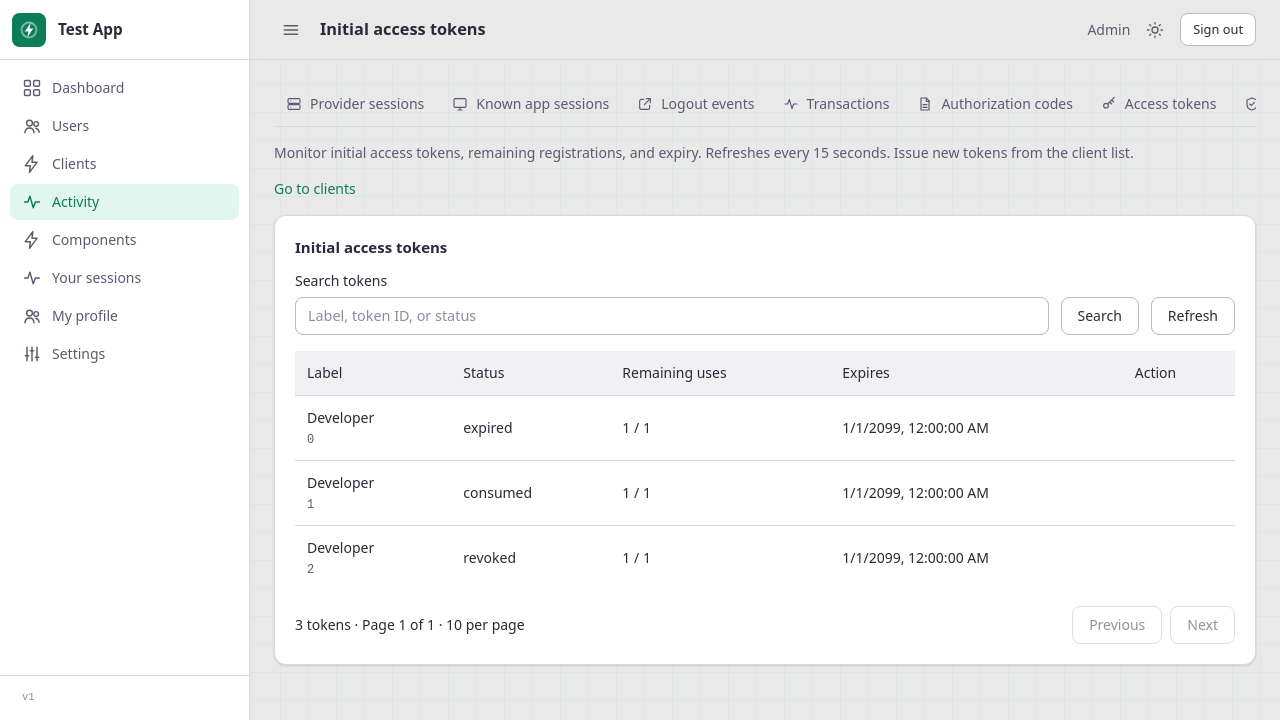
Test case: dynamic registration administration › hides revocation for expired, consumed and revoked tokens and reports search failures
This screenshot has width=1280, height=720.
Check: the text "consumed" is shown, box [451, 460, 610, 526]
Step 1. Click the button "Search" → (1100, 316), box [1060, 297, 1139, 335]
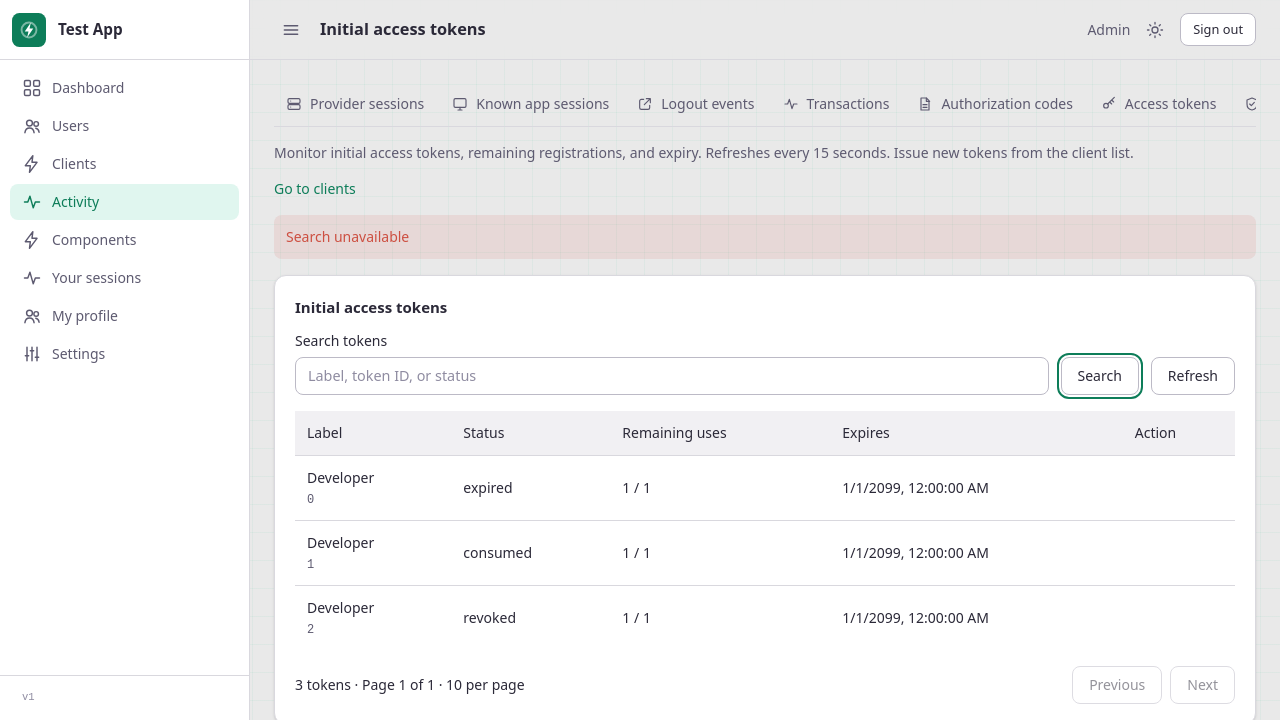
Check: the message reads "Search unavailable", box [286, 227, 409, 246]
